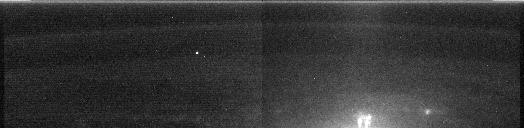positive: (355, 110, 374, 128)
